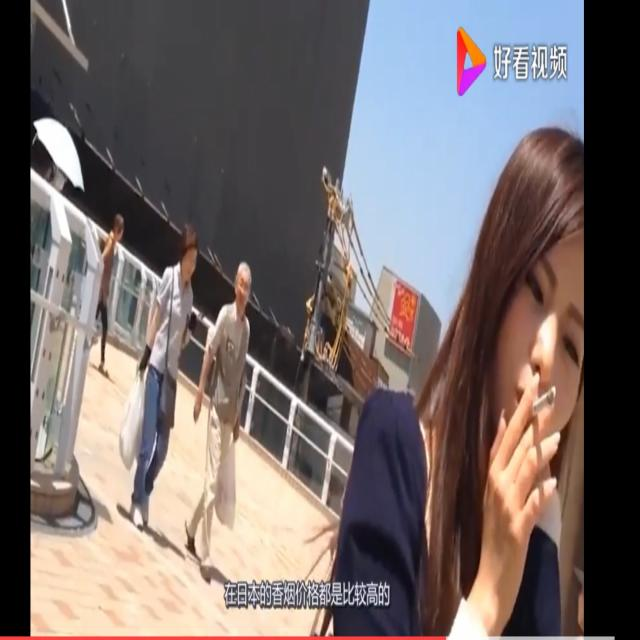smoke: (529, 385, 560, 421)
